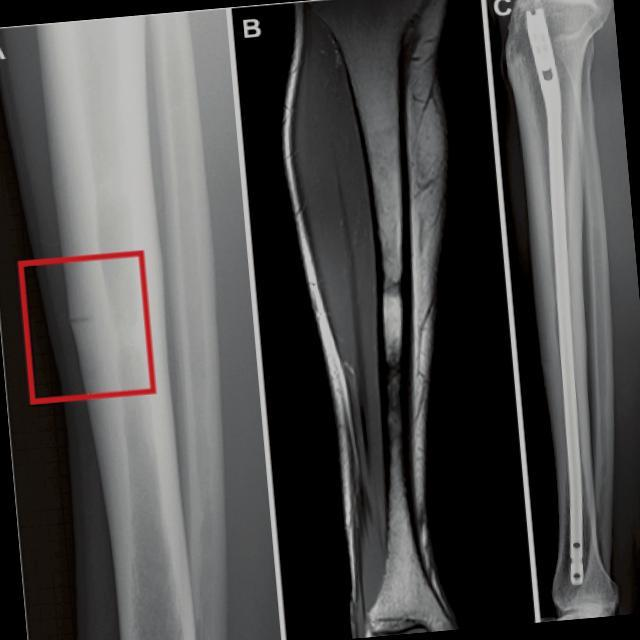HairLine Fracture: (64, 294, 99, 332)
